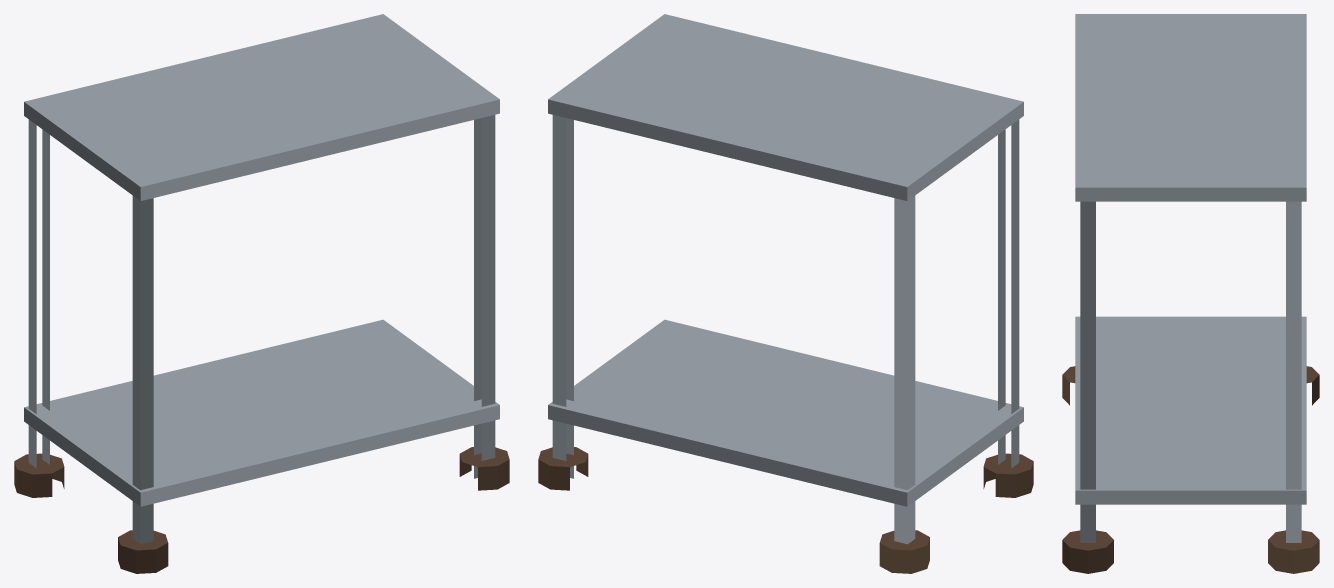
Rendered from cart.glb.
The picture shows the model from 3 angles, left to right: view 1: azimuth 30°, elevation 25°; view 2: azimuth 150°, elevation 25°; view 3: azimuth 270°, elevation 25°; orthographic projection.
Bounding box in the file's own units: 0.86 × 0.815 × 0.5.
